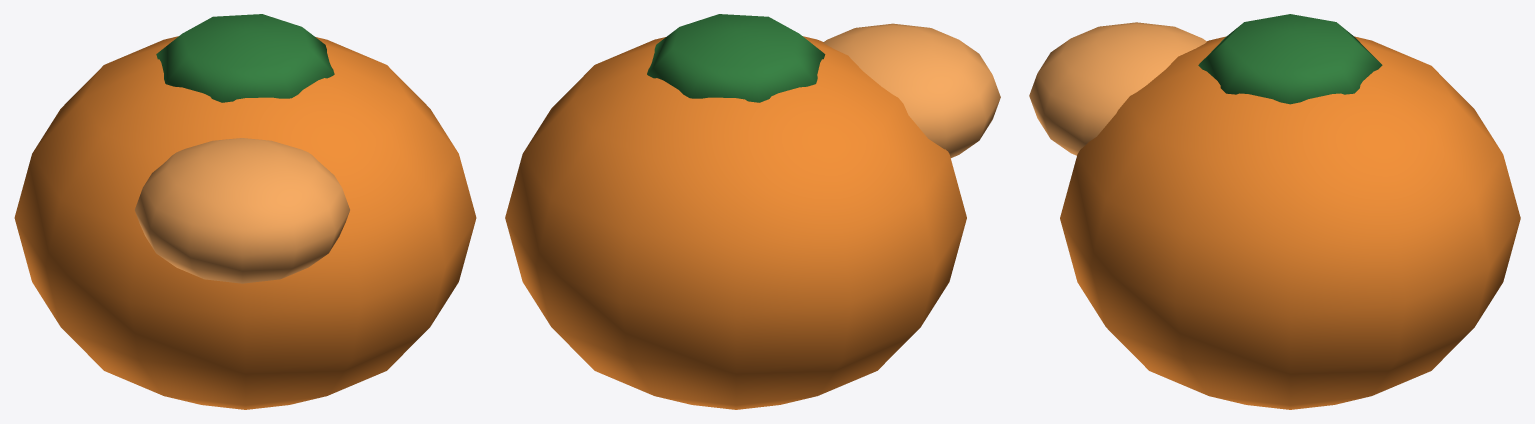
The model's file is tomato.glb.
3 views of the same model, side by side, from view 1: azimuth 30°, elevation 25°; view 2: azimuth 150°, elevation 25°; view 3: azimuth 270°, elevation 25° (orthographic).
Visible parts, largest first — view 1: root; view 2: root; view 3: root.
Part boxes in pixels (left/top/right/bottom): root: left=14, top=14, right=476, bottom=409; root: left=505, top=14, right=1000, bottom=409; root: left=1029, top=14, right=1520, bottom=409.
Bounding box in the file's own units: 0.3 × 0.254 × 0.32.
